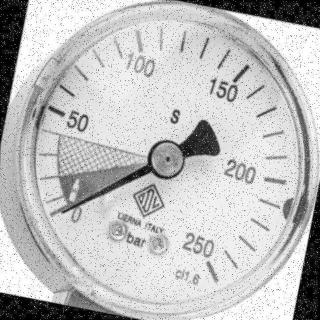gauge: (0, 0, 320, 320), (187, 239, 227, 282), (146, 137, 186, 179), (57, 188, 90, 228), (57, 204, 70, 217)
